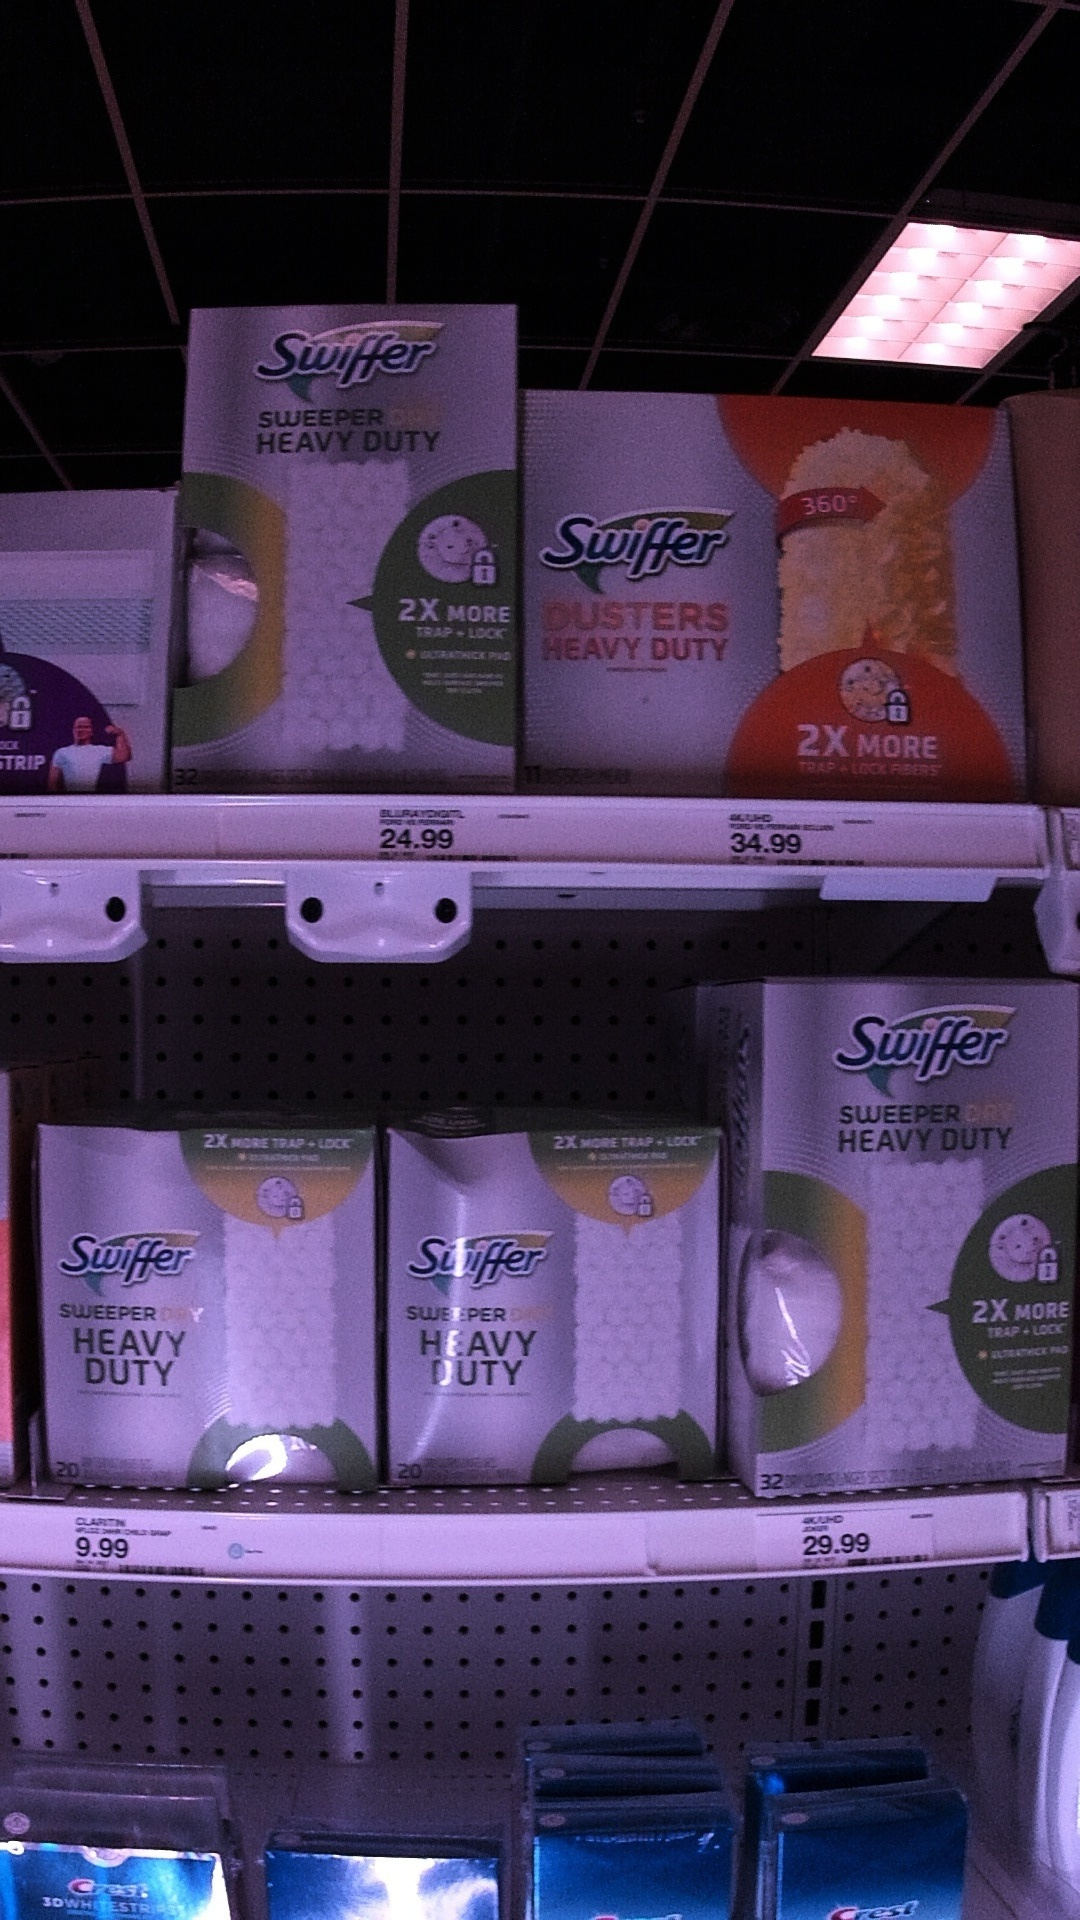ptag: (66, 1502, 262, 1593), (373, 786, 531, 880), (771, 1505, 957, 1584), (711, 796, 876, 876)
